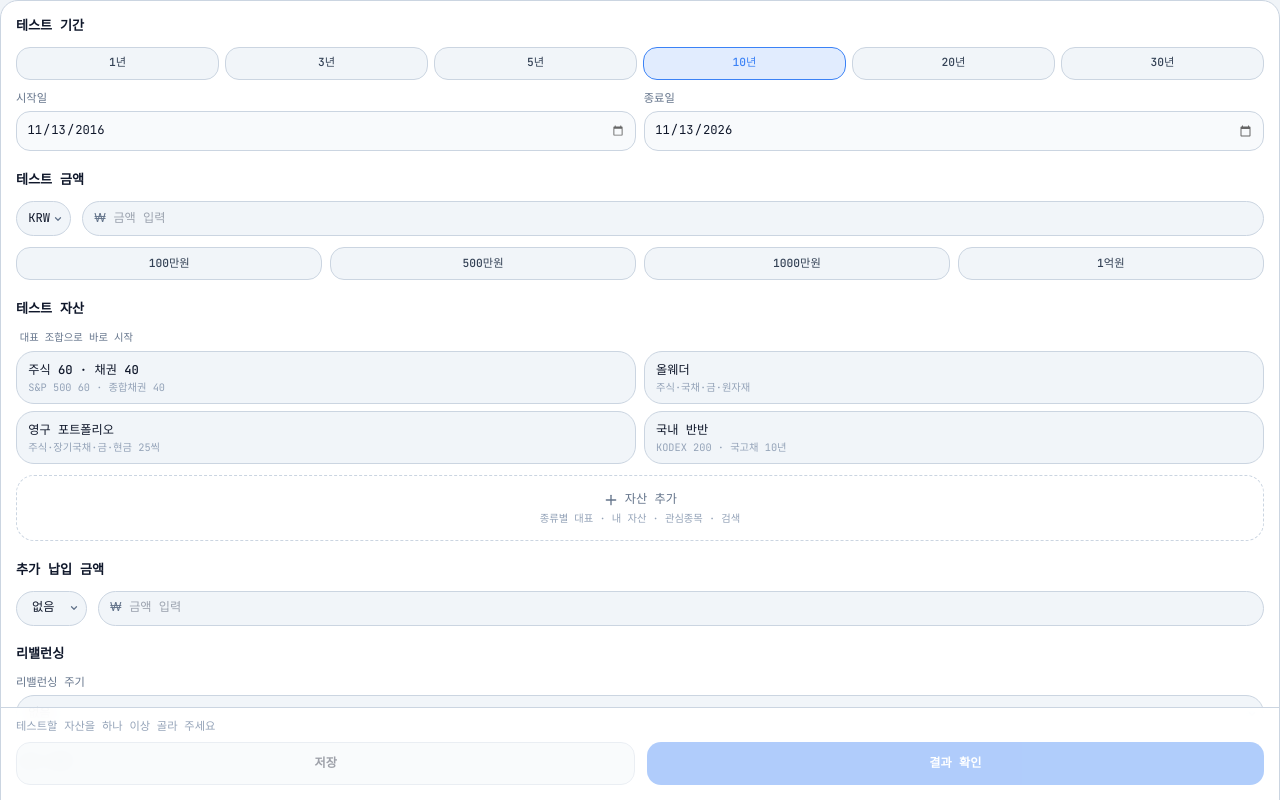
Scenario: 단추가 보이고, 누르면 비중 그대로 들어온다 › 보유 종목이 없으면 안 보인다 — 눌러도 아무 일 없는 단추를 두지 않는다
Click the button labelled "자산 추가 종류별 대표 · 내 자산 · 관심종목 · 검색": (640, 508) [16, 475, 1264, 541]
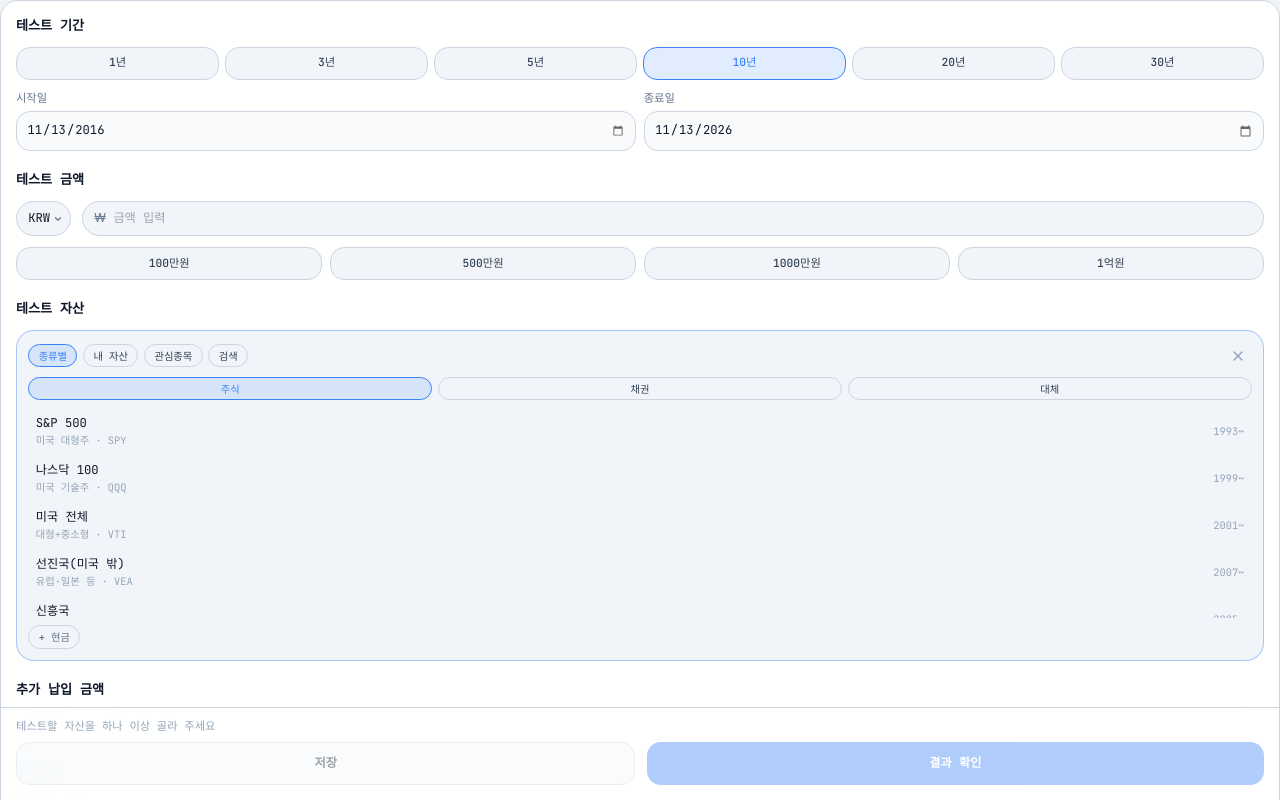
Click the button with aria-label "내 자산에서": (111, 356) [83, 344, 138, 367]
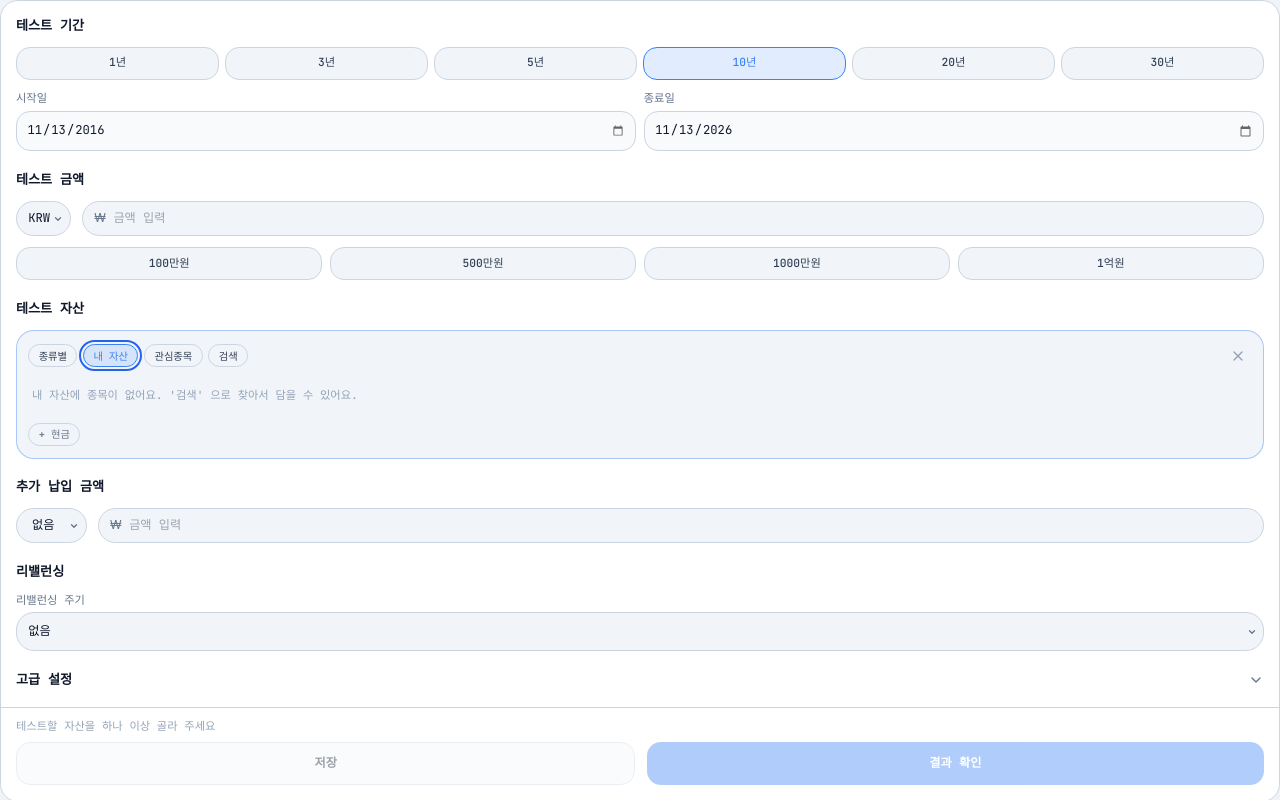
Now the text "내 자산에 종목이 없어요. '검색' 으로 찾아서 담을 수 있어요." is shown, box [32, 388, 358, 402]
